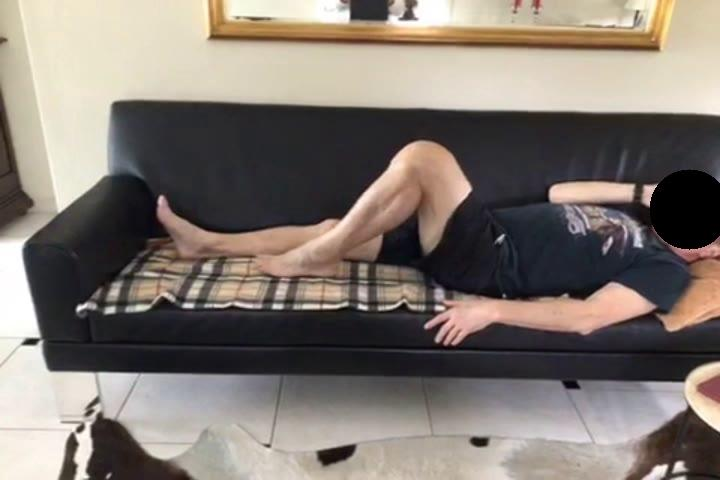lower_body: (158, 139, 529, 300)
